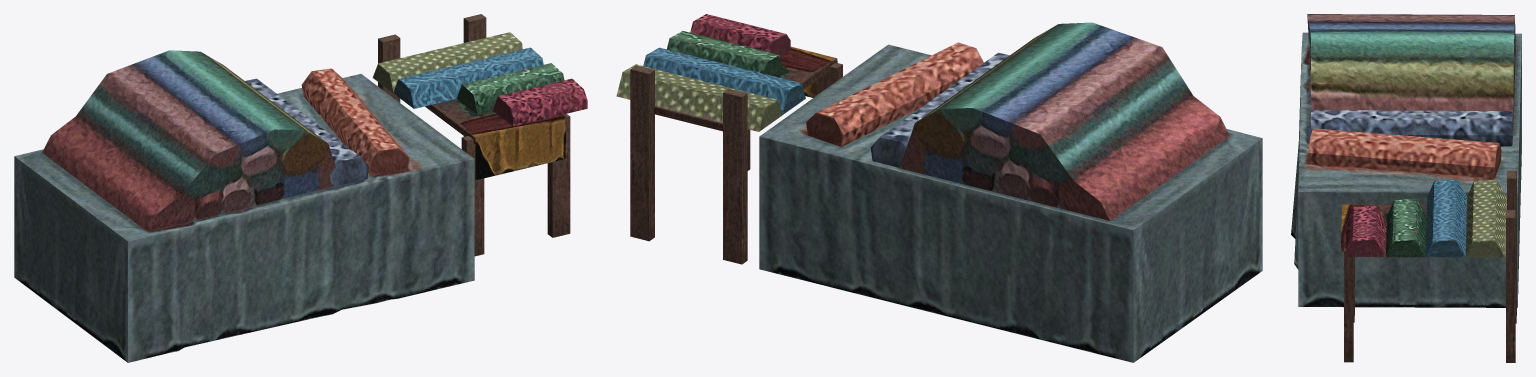
File: tan8.fbx
The picture shows the model from 3 angles, left to right: view 1: azimuth 30°, elevation 25°; view 2: azimuth 150°, elevation 25°; view 3: azimuth 270°, elevation 25°; orthographic projection. The views are drawn at different scales.
Visible parts, largest first — view 1: yanglintaobao888_140; view 2: yanglintaobao888_140; view 3: yanglintaobao888_140.
Part boxes in pixels (x1,y1,x2,y2): yanglintaobao888_140: (14, 14, 587, 362); yanglintaobao888_140: (616, 14, 1262, 362); yanglintaobao888_140: (1291, 14, 1521, 362).
Bounding box in the file's own units: 40.96 × 15.65 × 17.88.
